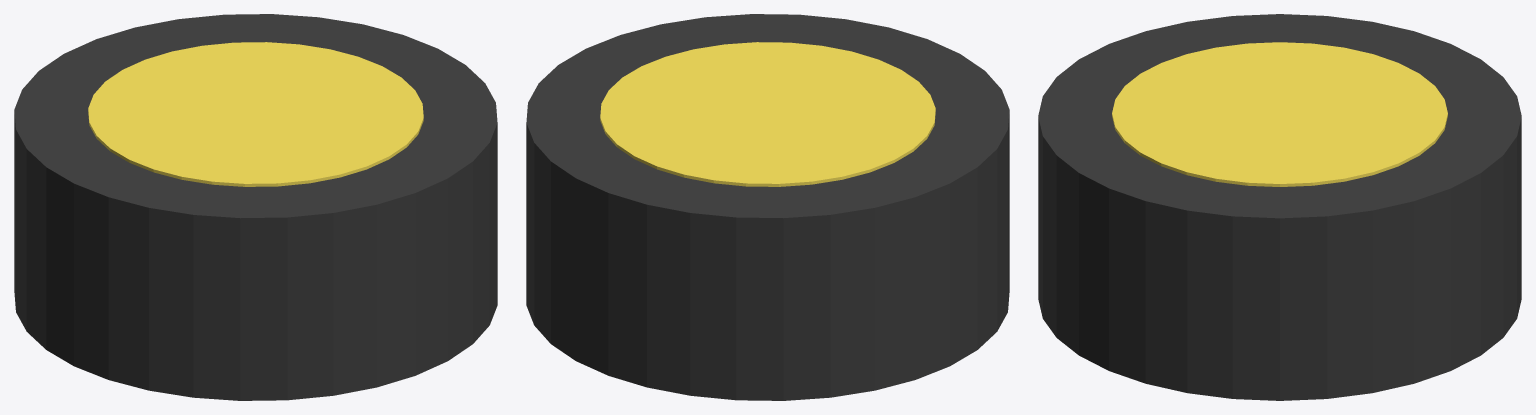
The model's file is test_multimat.glb.
3 views of the same model, side by side, from view 1: azimuth 30°, elevation 25°; view 2: azimuth 150°, elevation 25°; view 3: azimuth 270°, elevation 25° (orthographic).
Visible parts, largest first — view 1: Tire; view 2: Tire; view 3: Tire.
Boxes of the visible parts, x1=… form: Tire: x1=14, y1=14, x2=497, y2=400; Tire: x1=526, y1=14, x2=1009, y2=400; Tire: x1=1038, y1=14, x2=1521, y2=400.
Bounding box in the file's own units: 0.72 × 0.31 × 0.72.
